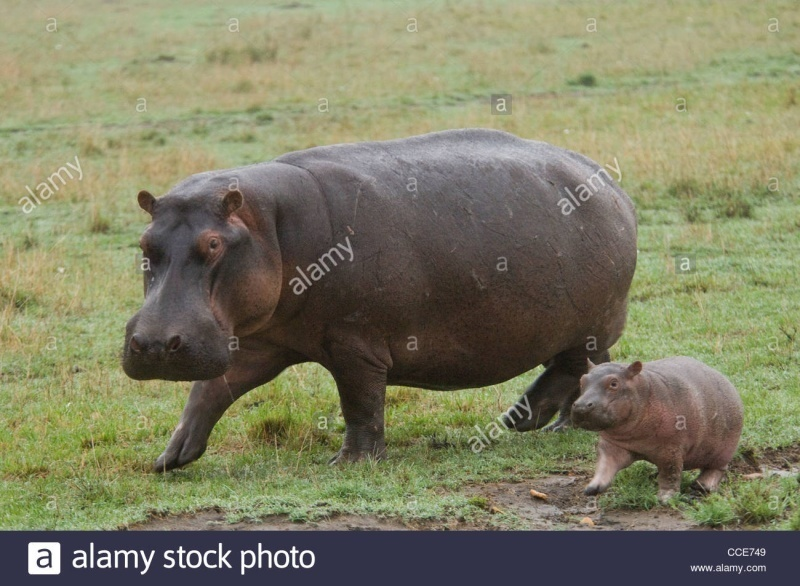hipopotamo: (116, 123, 642, 460), (560, 347, 761, 507)
